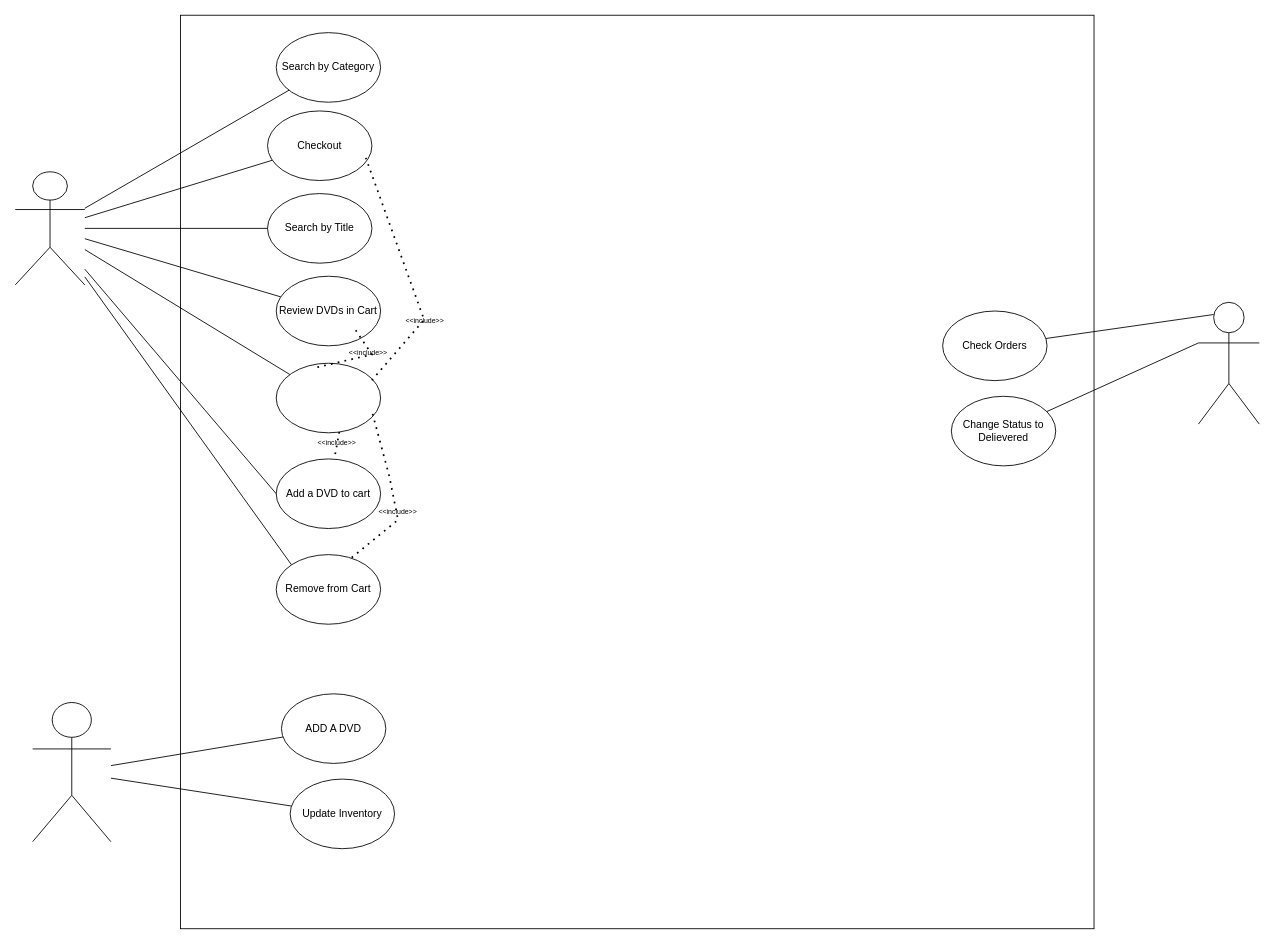
Image size: 1281x944. Some labels were removed from this diagram. The centre of each missing label's shape, as x and y in pixels:
"Actor" goes at point (71, 772).
"Customer" goes at point (49, 228).
"Delievery Agent" goes at point (1228, 362).
"Login" goes at point (328, 397).
